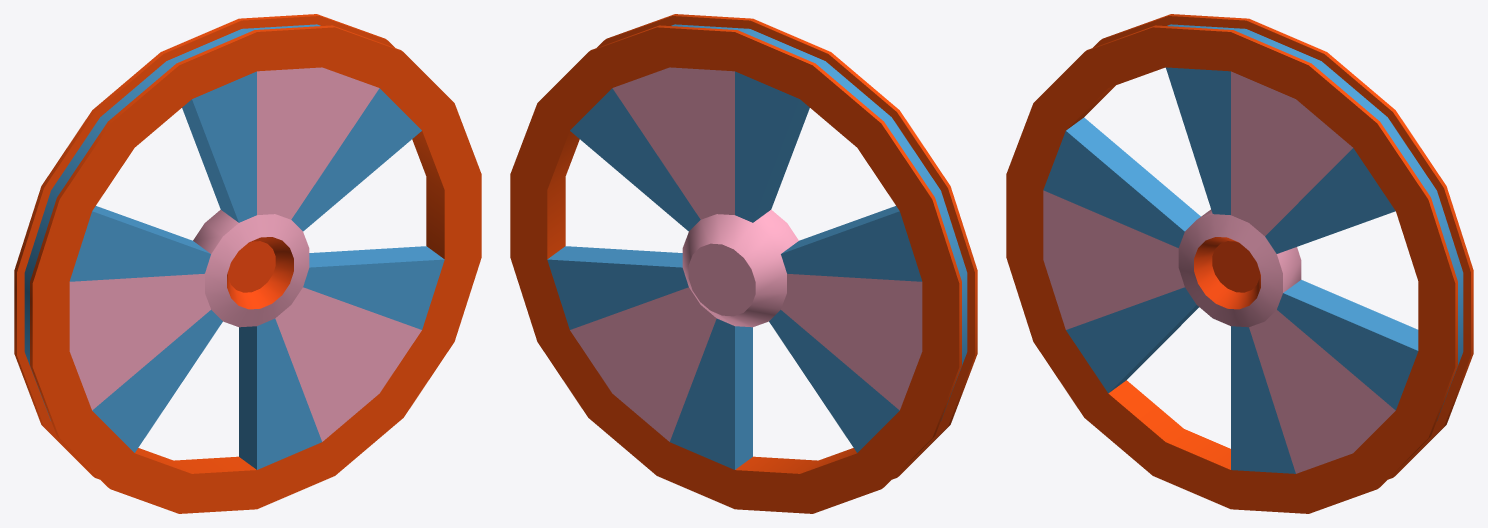
The model's file is M_magnetophone_wheel.fbx.
The picture shows the model from 3 angles, left to right: view 1: azimuth 30°, elevation 25°; view 2: azimuth 150°, elevation 25°; view 3: azimuth 330°, elevation 25°; orthographic projection.
Parts seen in each view (by area): view 1: Cylinder.002; view 2: Cylinder.002; view 3: Cylinder.002.
Part boxes in pixels (x1,y1,x2,y2): Cylinder.002: (14,14,481,513); Cylinder.002: (510,14,977,513); Cylinder.002: (1006,14,1473,513).
Bounding box in the file's own units: 184 × 187 × 24.4.
